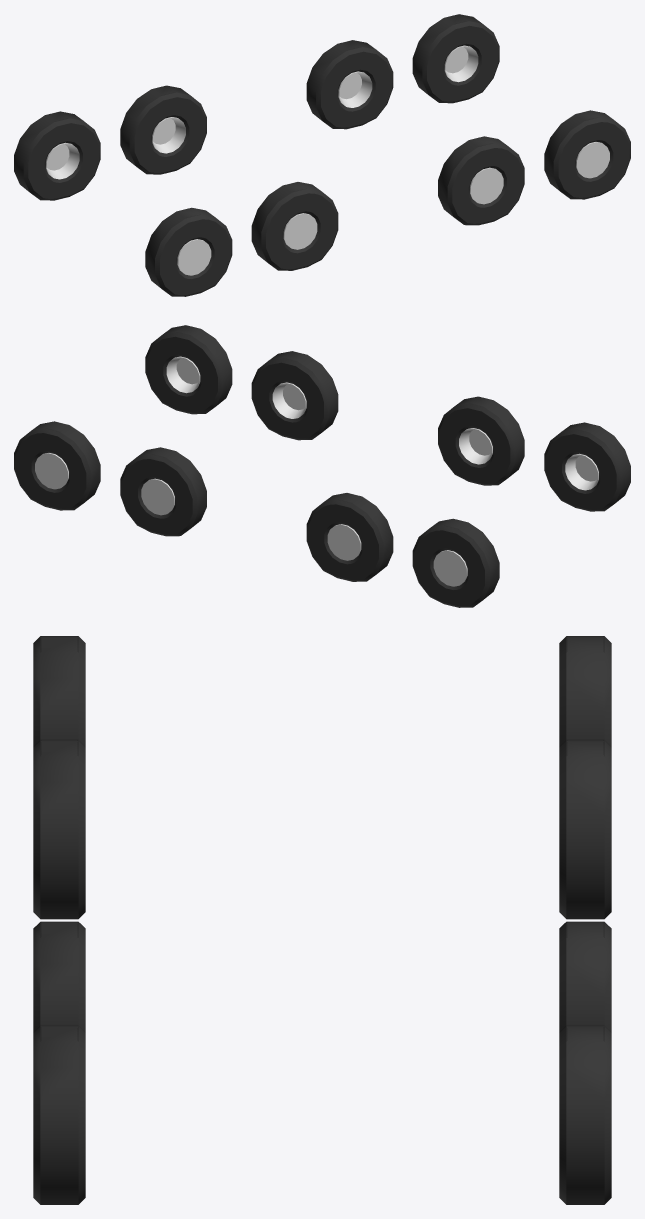
File: Wheels_seperate.fbx
The picture shows the model from 3 angles, top to bottom: view 1: azimuth 30°, elevation 25°; view 2: azimuth 150°, elevation 25°; view 3: azimuth 270°, elevation 25°; orthographic projection. The views are drawn at different scales.
Parts seen in each view (by area): view 1: Wiel.Low.014, Wiel.Low.011, Wiel.Low.020, Wiel.Low.016, Wiel.Low.022, Wiel.Low.018, Wiel.Low.026, Wiel.Low.025, Wiel.Low.013, Wiel.Low.023, Wiel.Low.015, Wiel.Low.021 (+4 smaller); view 2: Wiel.Low.025, Wiel.Low.026, Wiel.Low.018, Wiel.Low.016, Wiel.Low.022, Wiel.Low.011, Wiel.Low.020, Wiel.Low.014, Wiel.Low.017, Wiel.Low.027, Wiel.Low.024, Wiel.Low.019 (+4 smaller); view 3: Wiel.Low.014, Wiel.Low.025, Wiel.Low.018, Wiel.Low.020, Wiel.Low.016, Wiel.Low.022, Wiel.Low.011, Wiel.Low.026.
Part boxes in pixels (left/top/right/bottom): Wiel.Low.014: left=251, top=182, right=338, bottom=270; Wiel.Low.011: left=145, top=207, right=232, bottom=296; Wiel.Low.020: left=412, top=14, right=499, bottom=103; Wiel.Low.016: left=438, top=136, right=524, bottom=225; Wiel.Low.022: left=306, top=40, right=393, bottom=129; Wiel.Low.018: left=544, top=110, right=630, bottom=199; Wiel.Low.026: left=14, top=111, right=100, bottom=200; Wiel.Low.025: left=120, top=85, right=206, bottom=174; Wiel.Low.013: left=177, top=239, right=211, bottom=275; Wiel.Low.023: left=338, top=71, right=372, bottom=107; Wiel.Low.015: left=283, top=213, right=317, bottom=249; Wiel.Low.021: left=444, top=45, right=478, bottom=82; Wiel.Low.025: left=306, top=493, right=393, bottom=581; Wiel.Low.026: left=412, top=518, right=499, bottom=607; Wiel.Low.018: left=145, top=325, right=232, bottom=414; Wiel.Low.016: left=251, top=351, right=338, bottom=440; Wiel.Low.022: left=120, top=447, right=206, bottom=536; Wiel.Low.011: left=544, top=422, right=630, bottom=511; Wiel.Low.020: left=14, top=421, right=100, bottom=510; Wiel.Low.014: left=438, top=396, right=524, bottom=485; Wiel.Low.017: left=272, top=382, right=306, bottom=418; Wiel.Low.027: left=433, top=550, right=467, bottom=586; Wiel.Low.024: left=327, top=524, right=361, bottom=560; Wiel.Low.019: left=166, top=356, right=200, bottom=393; Wiel.Low.014: left=33, top=739, right=85, bottom=919; Wiel.Low.025: left=559, top=739, right=611, bottom=919; Wiel.Low.018: left=33, top=1025, right=85, bottom=1204; Wiel.Low.020: left=559, top=1025, right=611, bottom=1204; Wiel.Low.016: left=33, top=921, right=85, bottom=1031; Wiel.Low.022: left=559, top=921, right=611, bottom=1031; Wiel.Low.011: left=33, top=636, right=85, bottom=746; Wiel.Low.026: left=559, top=636, right=611, bottom=746.
Bounding box in the file's own units: 940 × 148 × 495.
